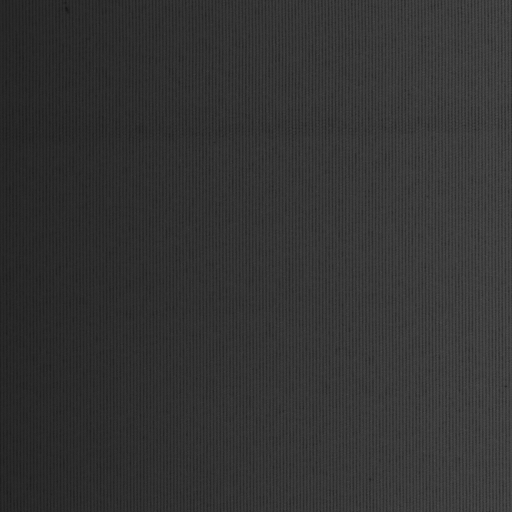defect: (2, 119, 512, 159)
